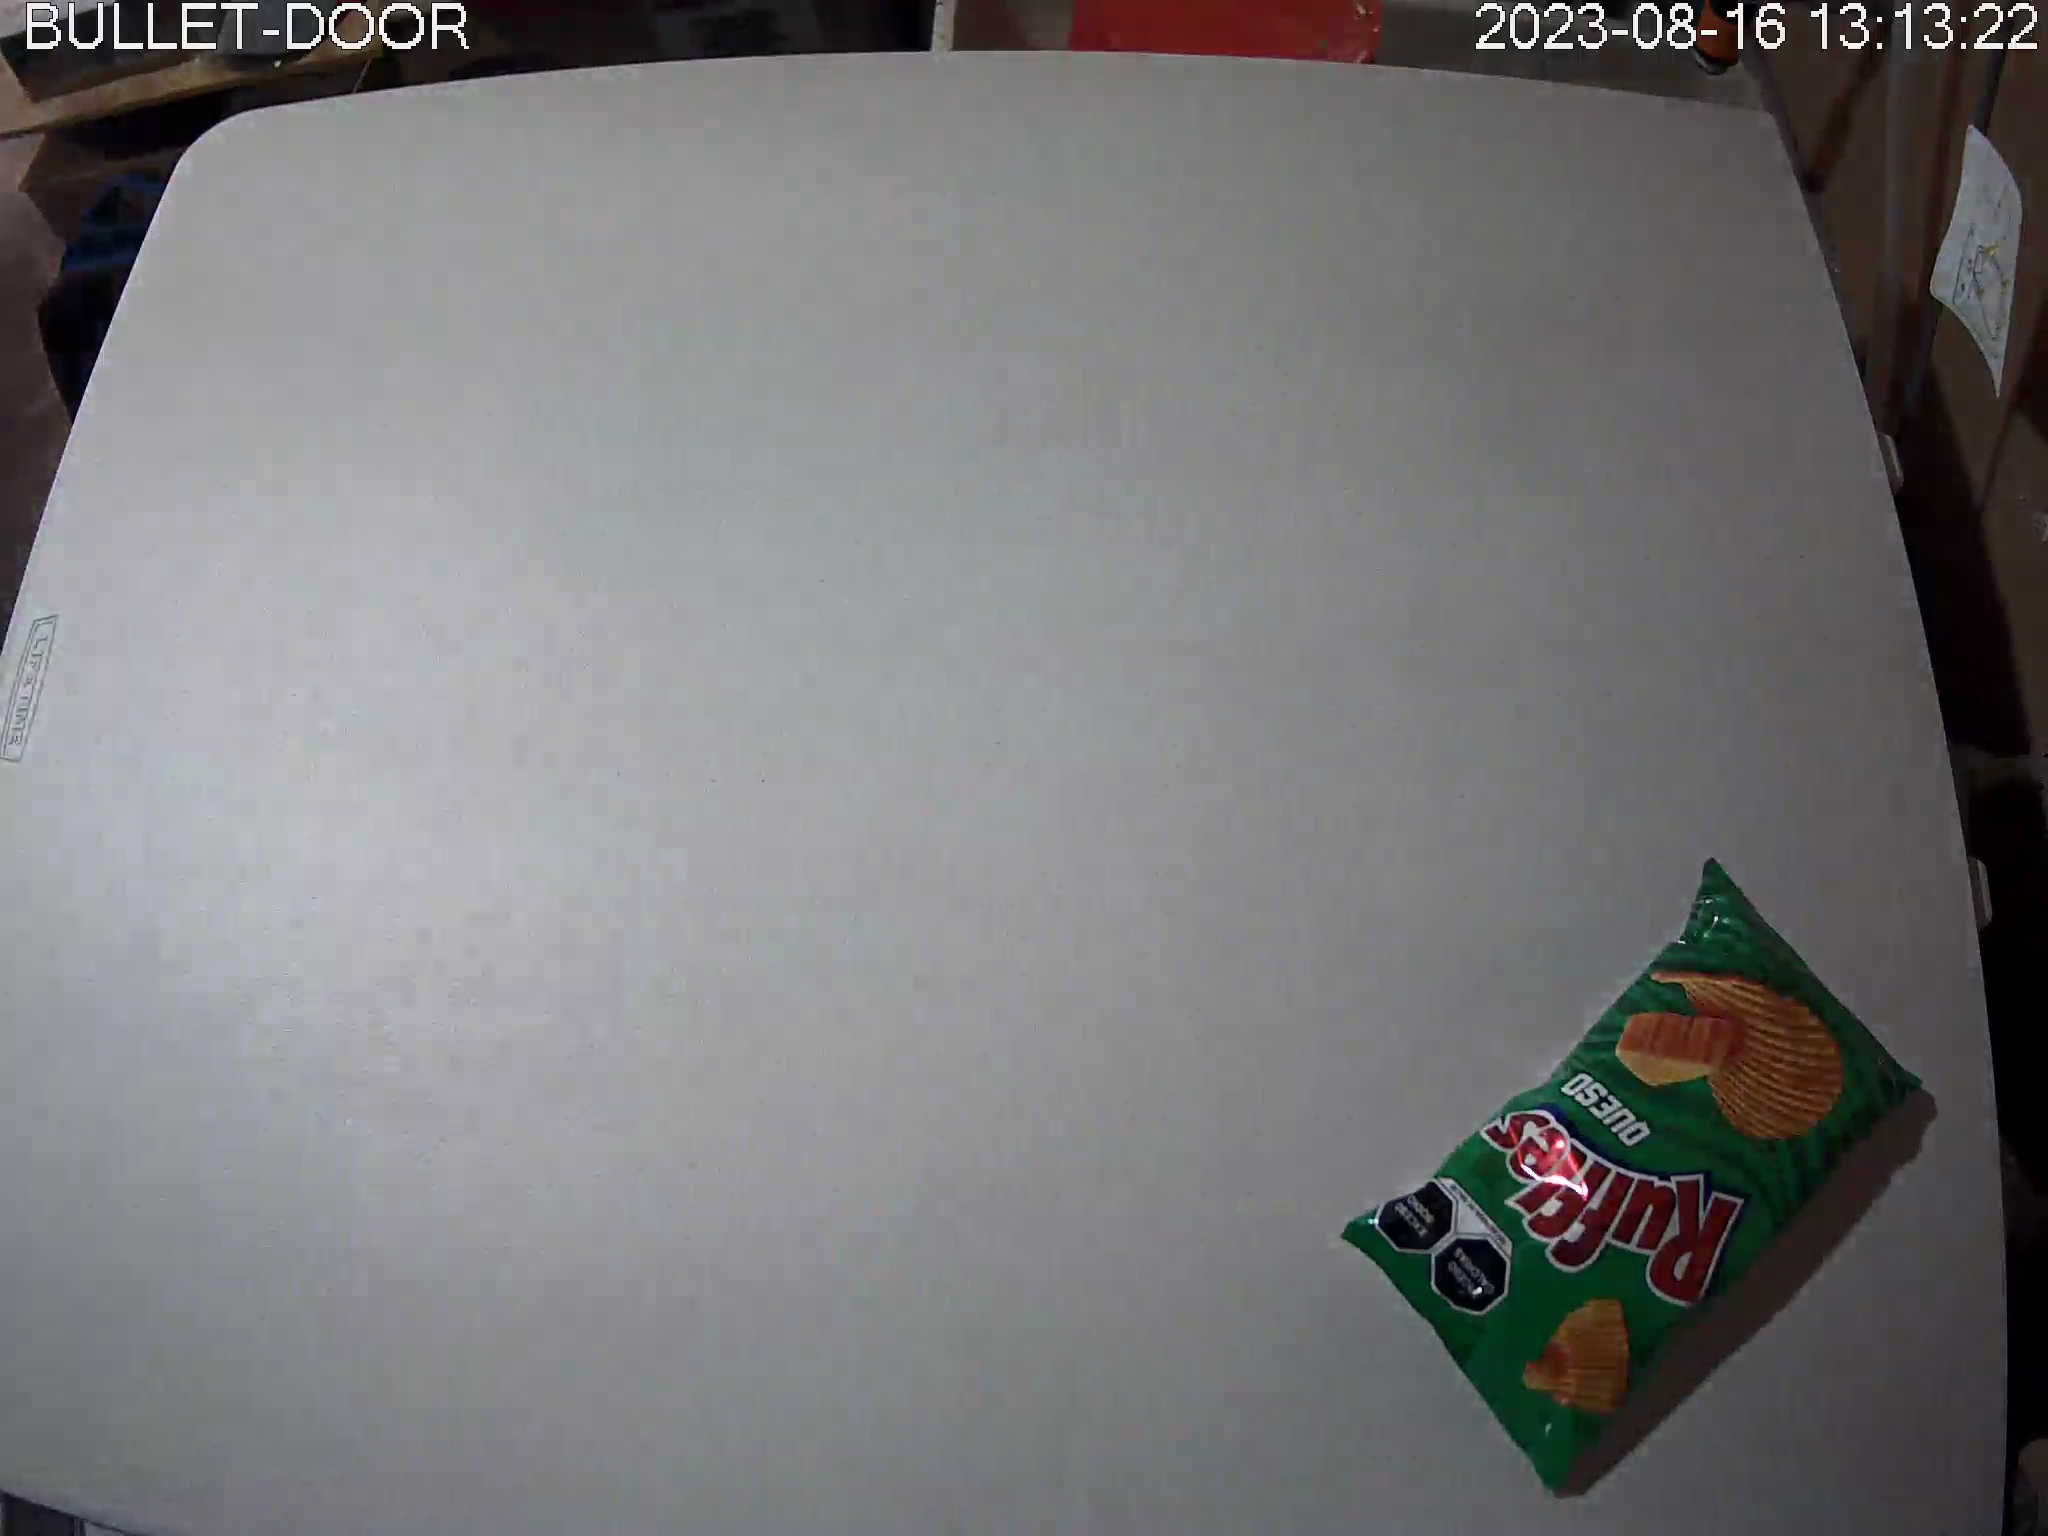RufflesQ_48_F: (1342, 857, 1925, 1496)
